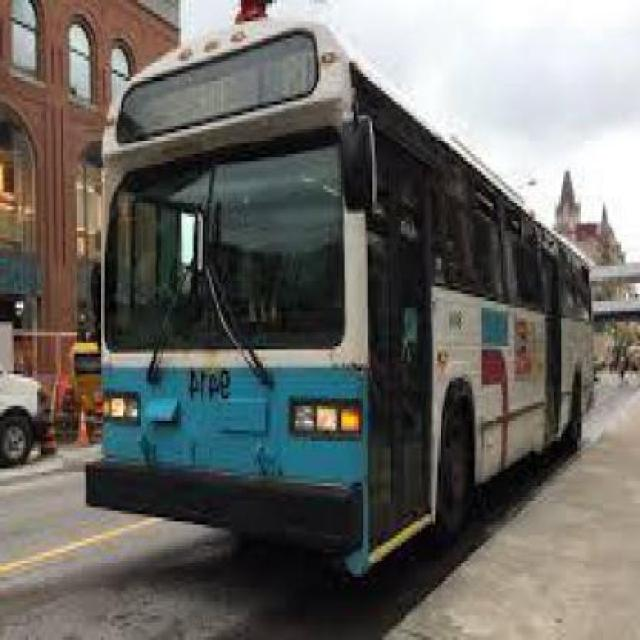bus: (95, 16, 596, 571)
